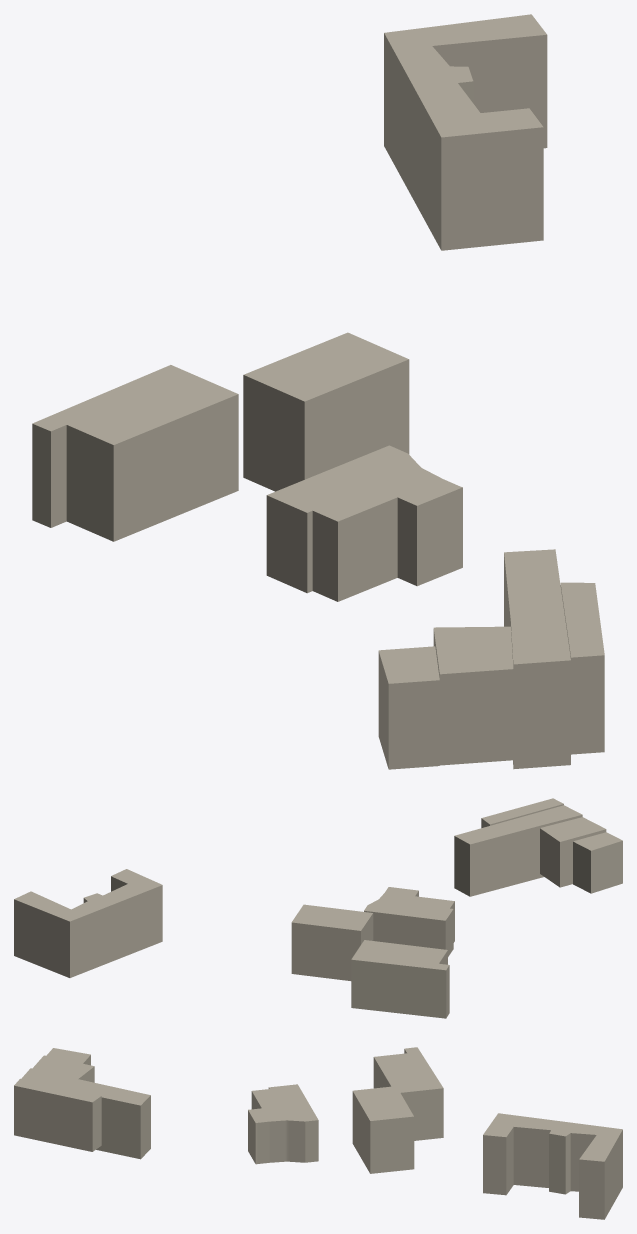
The model's file is kalkara_64_24_collision.glb.
3 views of the same model, one above another, from view 1: azimuth 30°, elevation 25°; view 2: azimuth 150°, elevation 25°; view 3: azimuth 270°, elevation 25° (orthographic). The views are drawn at different scales.
Visible parts, largest first — view 1: geometry_0; view 2: geometry_0; view 3: geometry_0.
Boxes of the visible parts, left/top/right/bottom form: geometry_0: left=32, top=14, right=604, bottom=769; geometry_0: left=14, top=798, right=622, bottom=1018; geometry_0: left=14, top=1047, right=622, bottom=1219.
Size of the model in its own units: 102 by 29.48 by 154.
